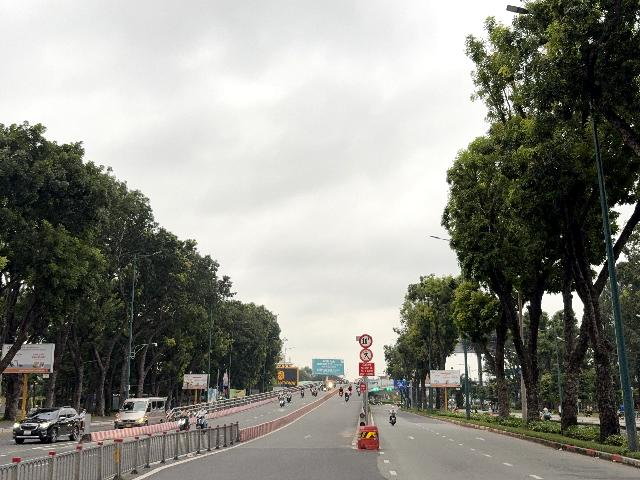cam-nguoi-di-bo: (360, 348, 373, 362)
han-che-trong-luong-xe: (359, 334, 372, 348)
